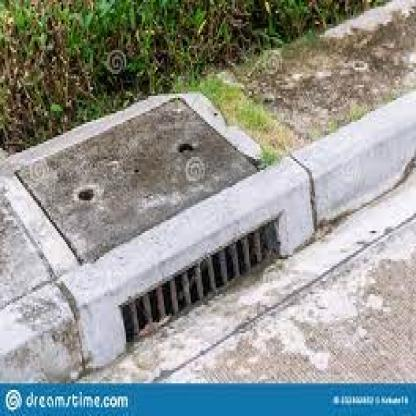open drainage-not overflowing-: (114, 199, 314, 369)
